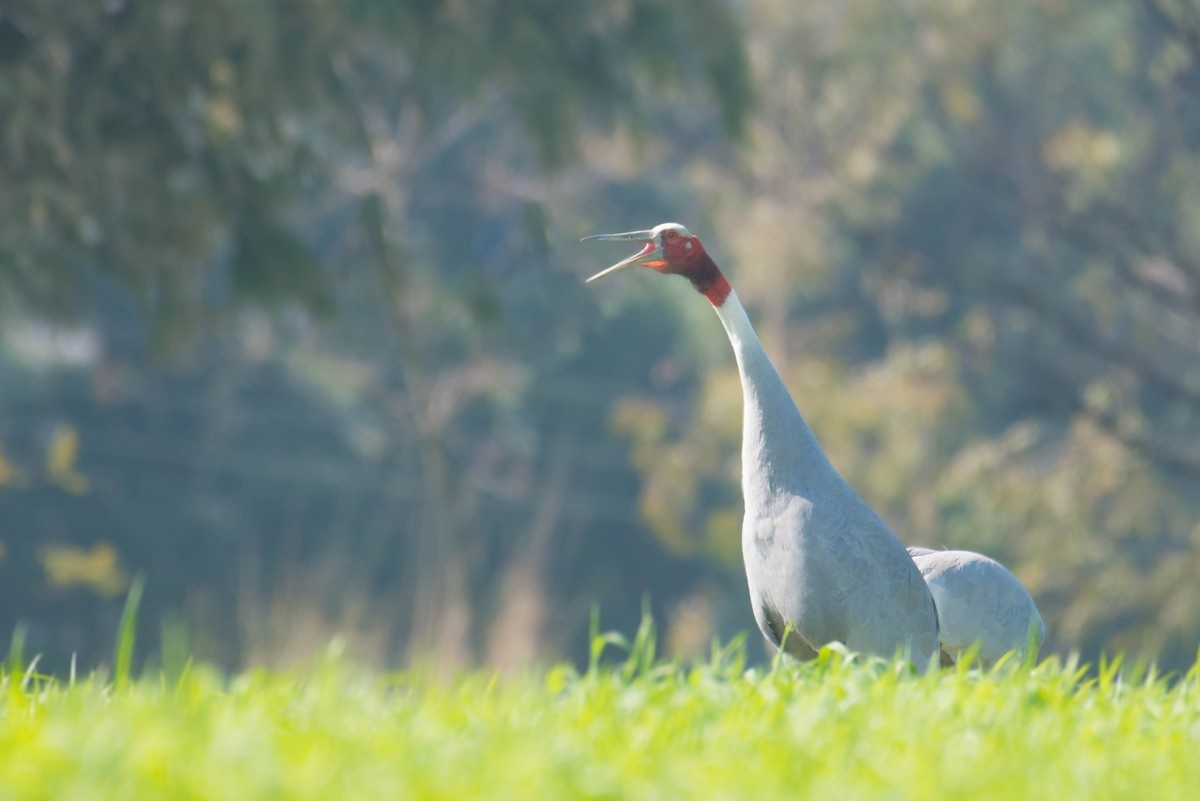crane: (580, 211, 949, 679)
